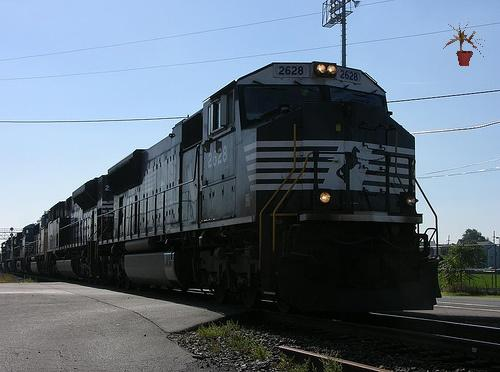tampered: (444, 23, 486, 66)
